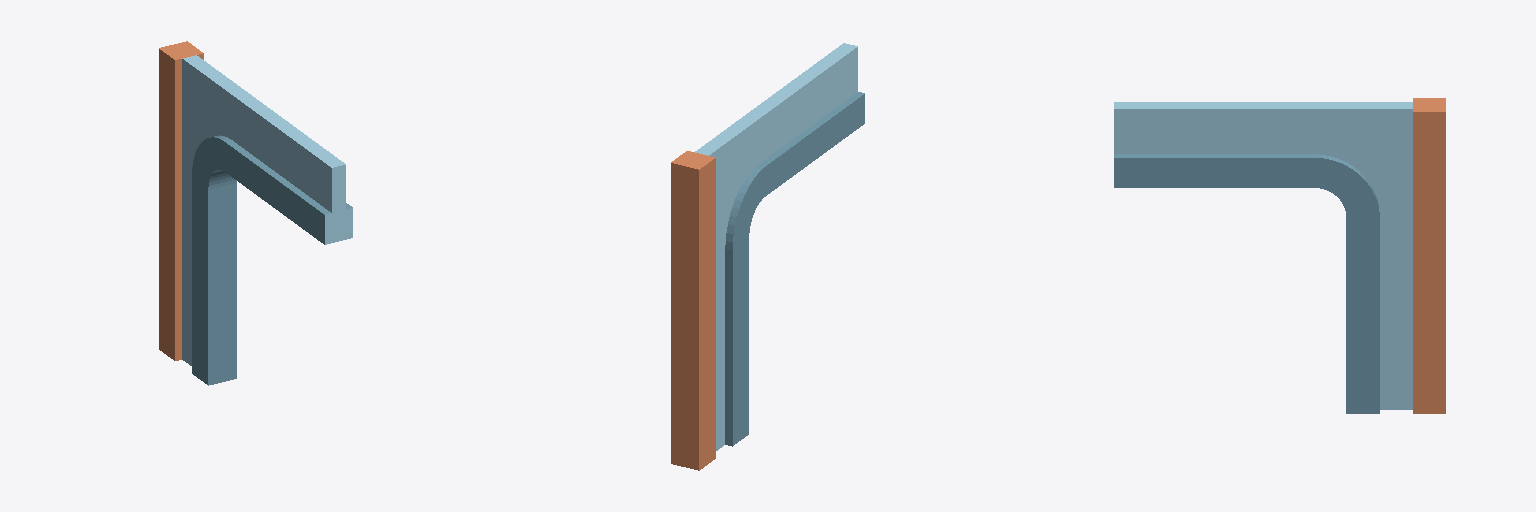
Rendered from wallDoorwaySquareWideCurved.obj.
3 renders of one model, left to right at view 1: azimuth 30°, elevation 25°; view 2: azimuth 150°, elevation 25°; view 3: azimuth 270°, elevation 25°, orthographic.
Parts seen in each view (by area): view 1: wallDoorwaySquareWideCurved; view 2: wallDoorwaySquareWideCurved; view 3: wallDoorwaySquareWideCurved.
Boxes of the visible parts, <box> form: wallDoorwaySquareWideCurved: <box>159,41,352,385</box>; wallDoorwaySquareWideCurved: <box>671,43,864,470</box>; wallDoorwaySquareWideCurved: <box>1114,98,1445,413</box>.
Size of the model in its own units: 0.1 by 1 by 1.